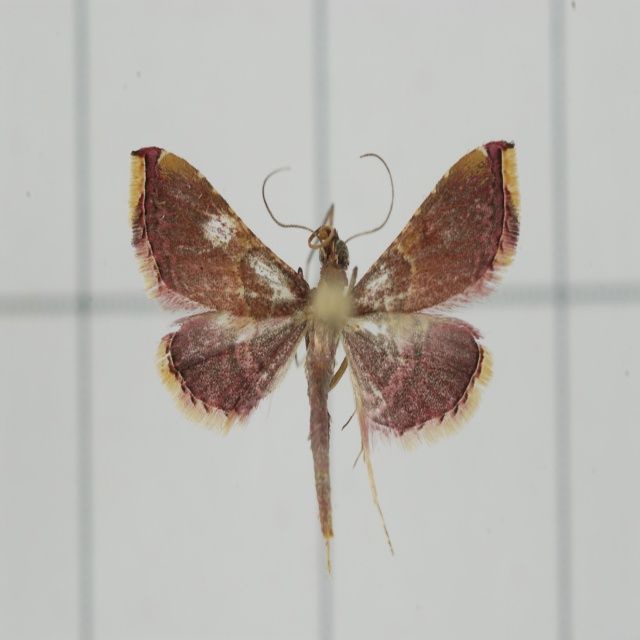Butterfly: (123, 152, 516, 557)
